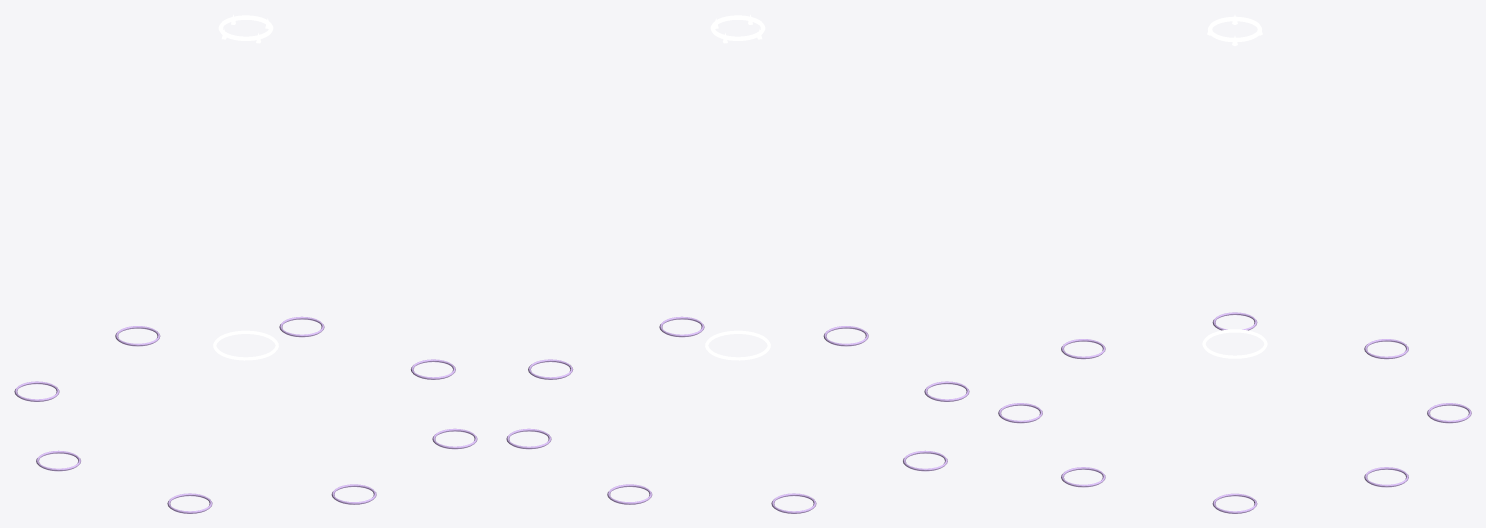
File: CidadeVelha_GemGenerator.fbx
3 renders of one model, left to right at view 1: azimuth 30°, elevation 25°; view 2: azimuth 150°, elevation 25°; view 3: azimuth 270°, elevation 25°, orthographic.
Parts seen in each view (by area): view 1: GEN_Emissor_Halo, GEN_Emissor_Base; view 2: GEN_Emissor_Halo, GEN_Emissor_Base; view 3: GEN_Emissor_Halo, GEN_Emissor_Base.
Part boxes in pixels (x1,y1,x2,y2): GEN_Emissor_Halo: (218,14,273,43); GEN_Emissor_Base: (213,330,278,360); GEN_Emissor_Halo: (710,14,765,43); GEN_Emissor_Base: (705,330,770,360); GEN_Emissor_Halo: (1207,15,1262,45); GEN_Emissor_Base: (1202,329,1267,358).
Size of the model in its own units: 9.5 by 8.63 by 9.5.
